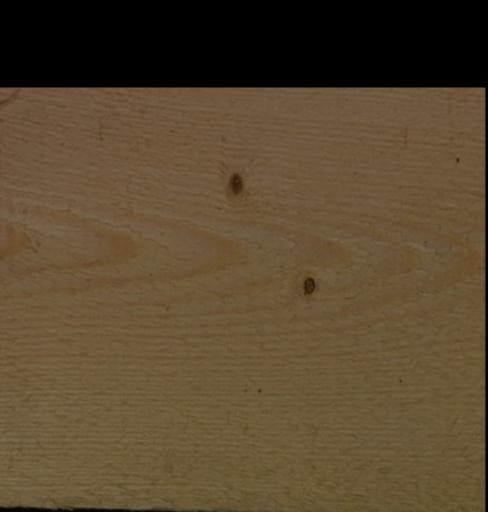dry_knot: (226, 171, 243, 196), (301, 275, 315, 295)
